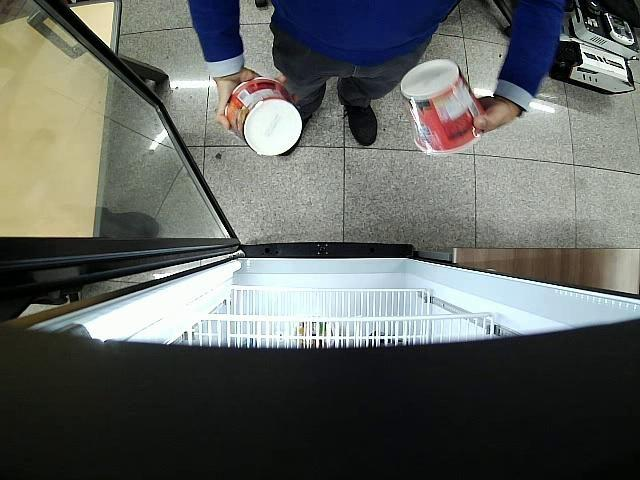01_ShinRamen_L: (401, 60, 483, 156), (226, 79, 304, 156)
